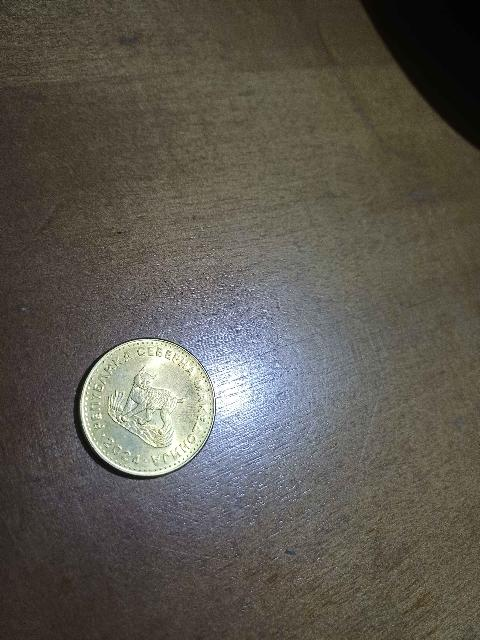coin: (80, 339, 215, 476)
